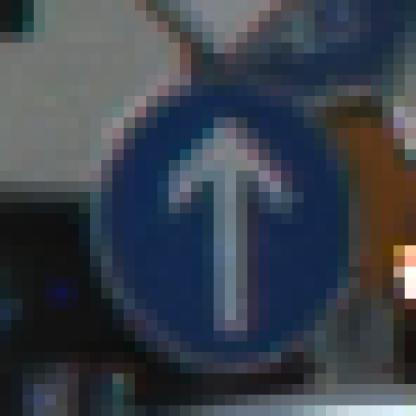AheadOnly: (68, 54, 361, 364)
